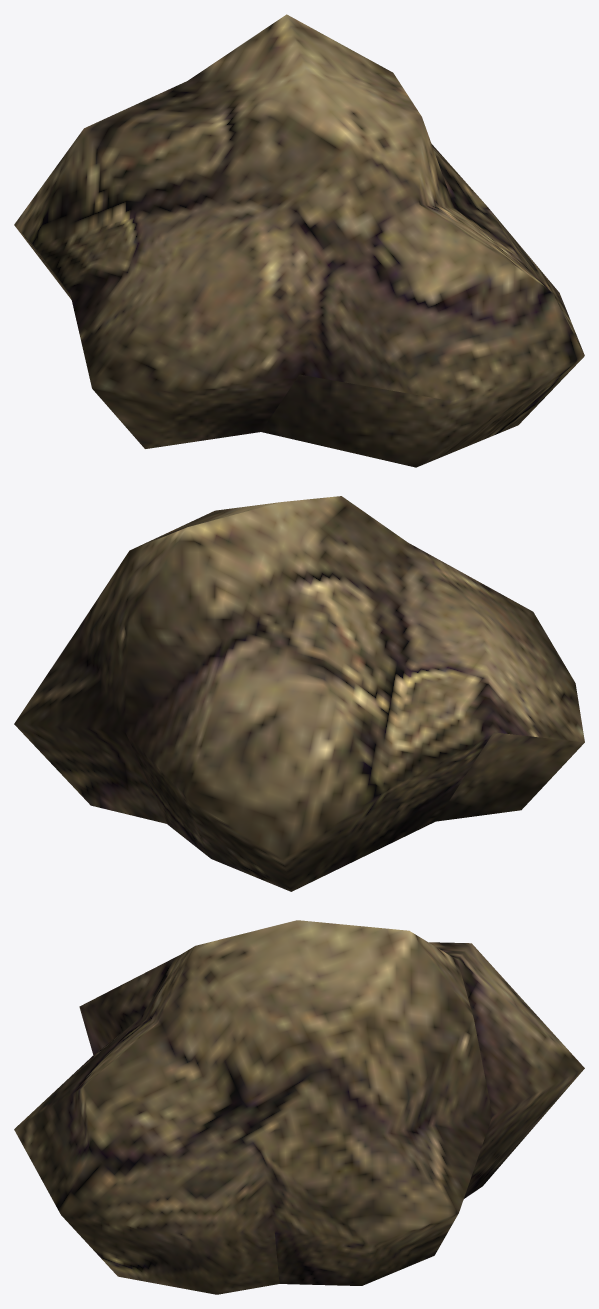
Rendered from Scene_Rock_02.FBX.
The picture shows the model from 3 angles, top to bottom: view 1: azimuth 30°, elevation 25°; view 2: azimuth 150°, elevation 25°; view 3: azimuth 270°, elevation 25°; orthographic projection. The views are drawn at different scales.
Parts seen in each view (by area): view 1: Scene_Rock_02; view 2: Scene_Rock_02; view 3: Scene_Rock_02.
Boxes of the visible parts, left/top/right/bottom form: Scene_Rock_02: left=14, top=14, right=584, bottom=467; Scene_Rock_02: left=14, top=496, right=584, bottom=891; Scene_Rock_02: left=14, top=920, right=584, bottom=1294.
Size of the model in its own units: 3.27 by 2.11 by 3.55.
